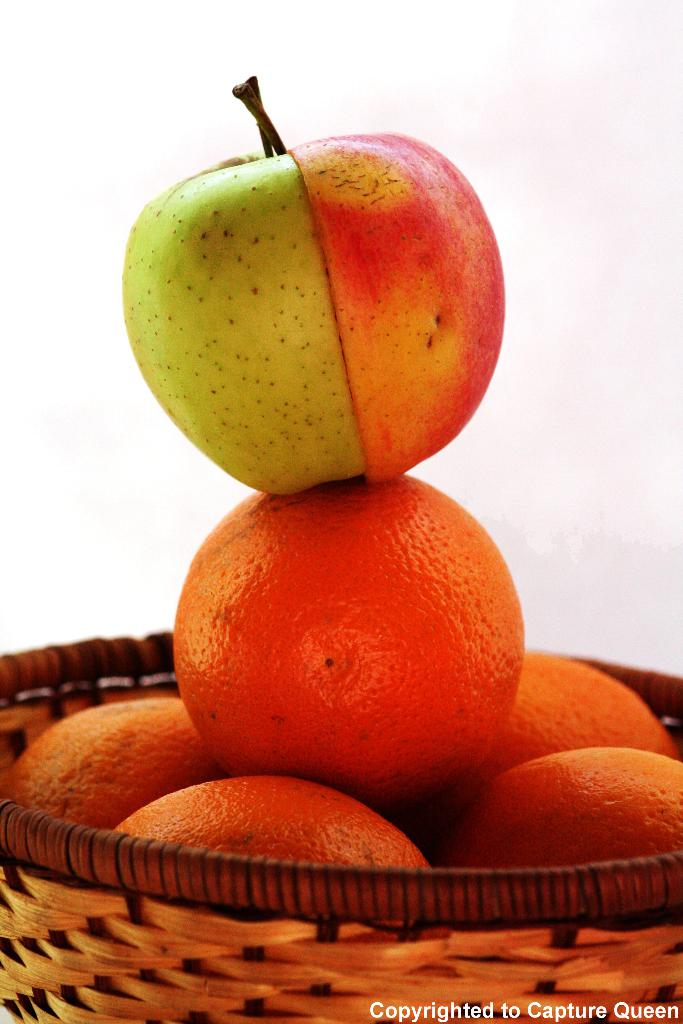Apple: (108, 99, 510, 516)
